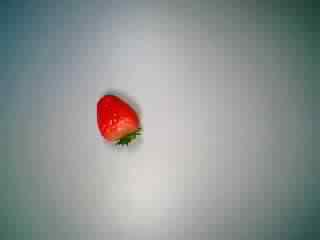strawberry: (86, 90, 154, 154)
